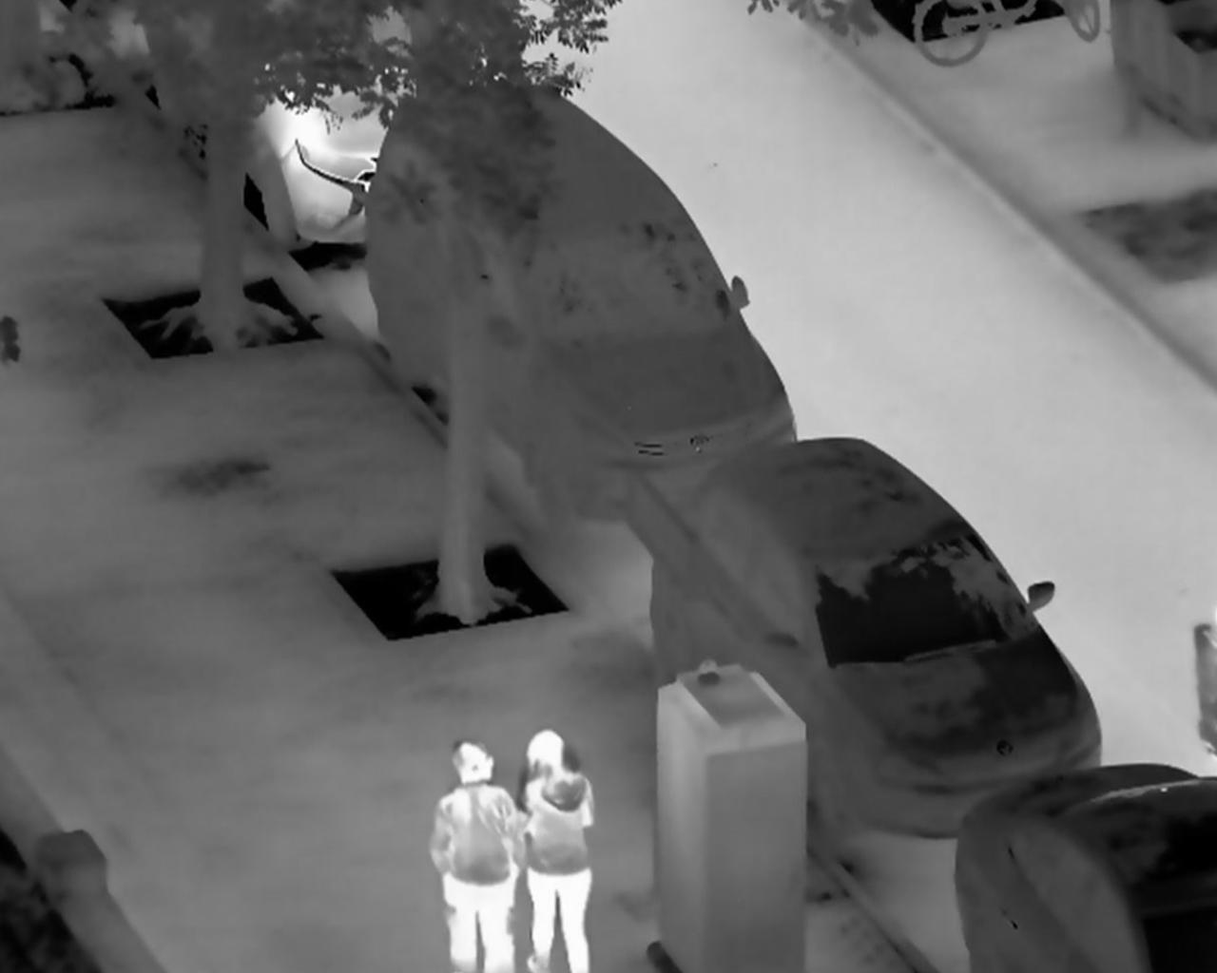person: (429, 739, 527, 973), (512, 730, 592, 973)
